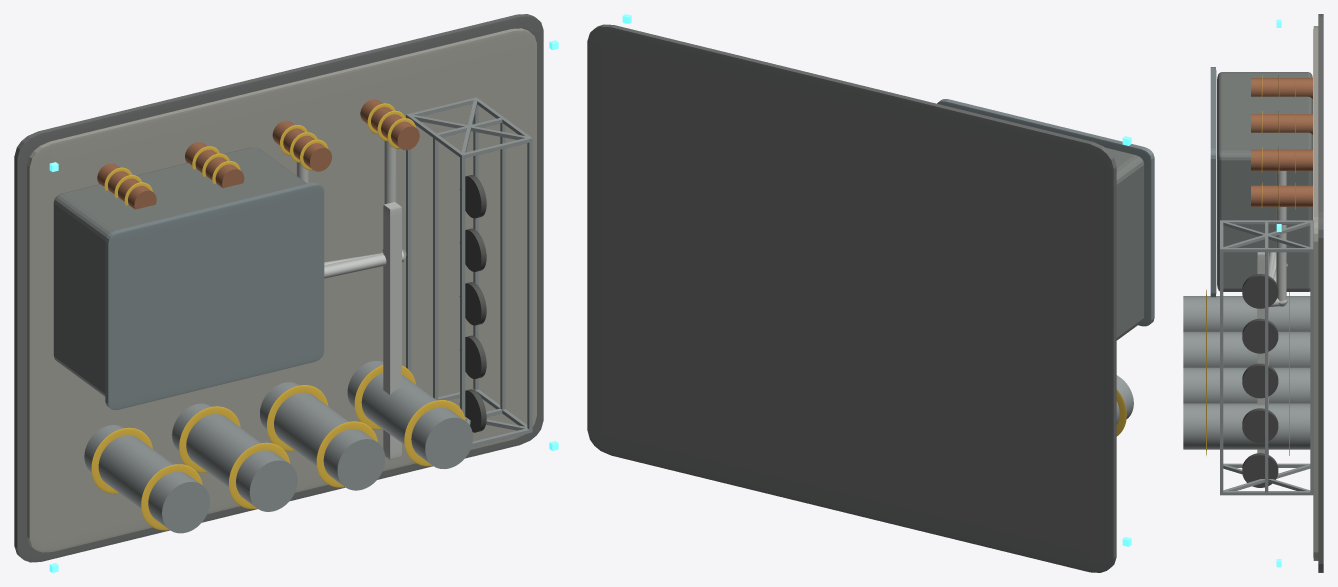
The model's file is b-05-geothermal-plant-lod1.glb.
3 views of the same model, side by side, from view 1: azimuth 30°, elevation 25°; view 2: azimuth 150°, elevation 25°; view 3: azimuth 270°, elevation 25° (orthographic). The views are drawn at different scales.
Parts seen in each view (by area): view 1: foundation_inner_pad, turbine_hall_roof, foundation, turbine_hall_main_hall, steam_separator_1_vessel, steam_separator_0_vessel, steam_separator_2_vessel, steam_separator_3_vessel, primary_pipe_collector, fan_bank_beam_y_2_e, fan_bank_beam_y_1_e, fan_bank_beam_y_1_w (+21 smaller); view 2: foundation, turbine_hall_main_hall, turbine_hall_roof; view 3: turbine_hall_main_hall, steam_separator_3_vessel, steam_separator_1_vessel, steam_separator_2_vessel, steam_separator_0_vessel, foundation, foundation_inner_pad, turbine_hall_roof, well_head_2_stack, well_head_3_stack, well_head_0_stack, well_head_1_stack (+18 smaller).
Part boxes in pixels (left/top/right/bottom): foundation_inner_pad: left=27, top=28, right=536, bottom=552; turbine_hall_roof: left=105, top=182, right=324, bottom=409; foundation: left=14, top=14, right=543, bottom=562; turbine_hall_main_hall: left=53, top=147, right=307, bottom=396; steam_separator_1_vessel: left=172, top=403, right=297, bottom=511; steam_separator_0_vessel: left=84, top=425, right=209, bottom=533; steam_separator_2_vessel: left=260, top=382, right=385, bottom=490; steam_separator_3_vessel: left=347, top=361, right=472, bottom=469; primary_pipe_collector: left=383, top=202, right=401, bottom=459; fan_bank_beam_y_2_e: left=527, top=137, right=532, bottom=431; fan_bank_beam_y_1_e: left=500, top=117, right=505, bottom=409; fan_bank_beam_y_1_w: left=433, top=134, right=438, bottom=400; foundation: left=587, top=24, right=1116, bottom=572; turbine_hall_main_hall: left=1105, top=147, right=1144, bottom=340; turbine_hall_roof: left=937, top=99, right=1154, bottom=326; turbine_hall_main_hall: left=1217, top=72, right=1312, bottom=291; steam_separator_3_vessel: left=1183, top=403, right=1310, bottom=449; steam_separator_1_vessel: left=1183, top=331, right=1310, bottom=367; steam_separator_2_vessel: left=1183, top=367, right=1310, bottom=403; steam_separator_0_vessel: left=1183, top=296, right=1310, bottom=331; foundation: left=1318, top=14, right=1323, bottom=572; foundation_inner_pad: left=1313, top=26, right=1318, bottom=560; turbine_hall_roof: left=1210, top=67, right=1216, bottom=297; well_head_2_stack: left=1251, top=149, right=1312, bottom=170; well_head_3_stack: left=1251, top=185, right=1312, bottom=206; well_head_0_stack: left=1251, top=78, right=1312, bottom=99; well_head_1_stack: left=1251, top=114, right=1312, bottom=134.
Size of what is drawn, in the model's own units: 18 by 14 by 4.98.
